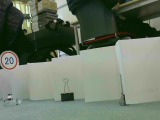speed_20: (1, 50, 20, 72)
